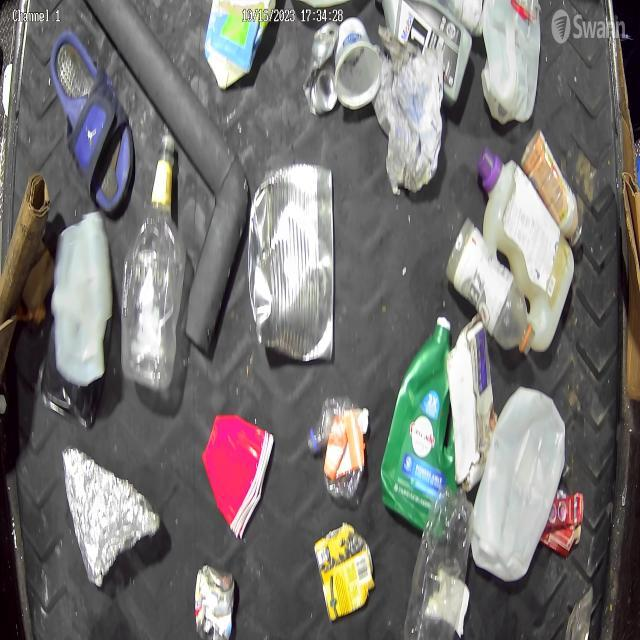can: (247, 158, 336, 368), (186, 548, 243, 640)
milk_jug: (469, 386, 567, 598), (44, 208, 116, 396), (482, 2, 546, 128)
non_white_jug: (382, 316, 454, 534)
